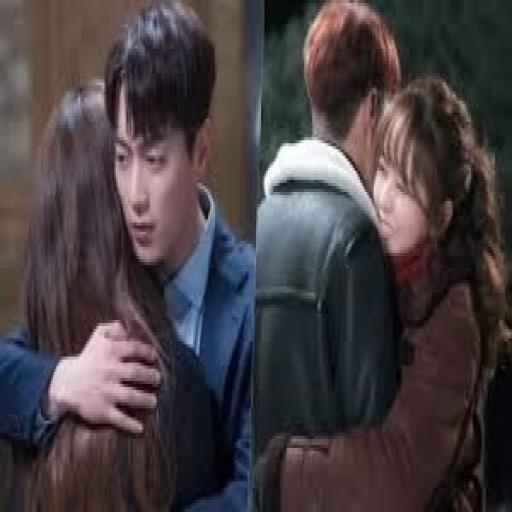hugging: (2, 3, 256, 509), (254, 73, 509, 509)
